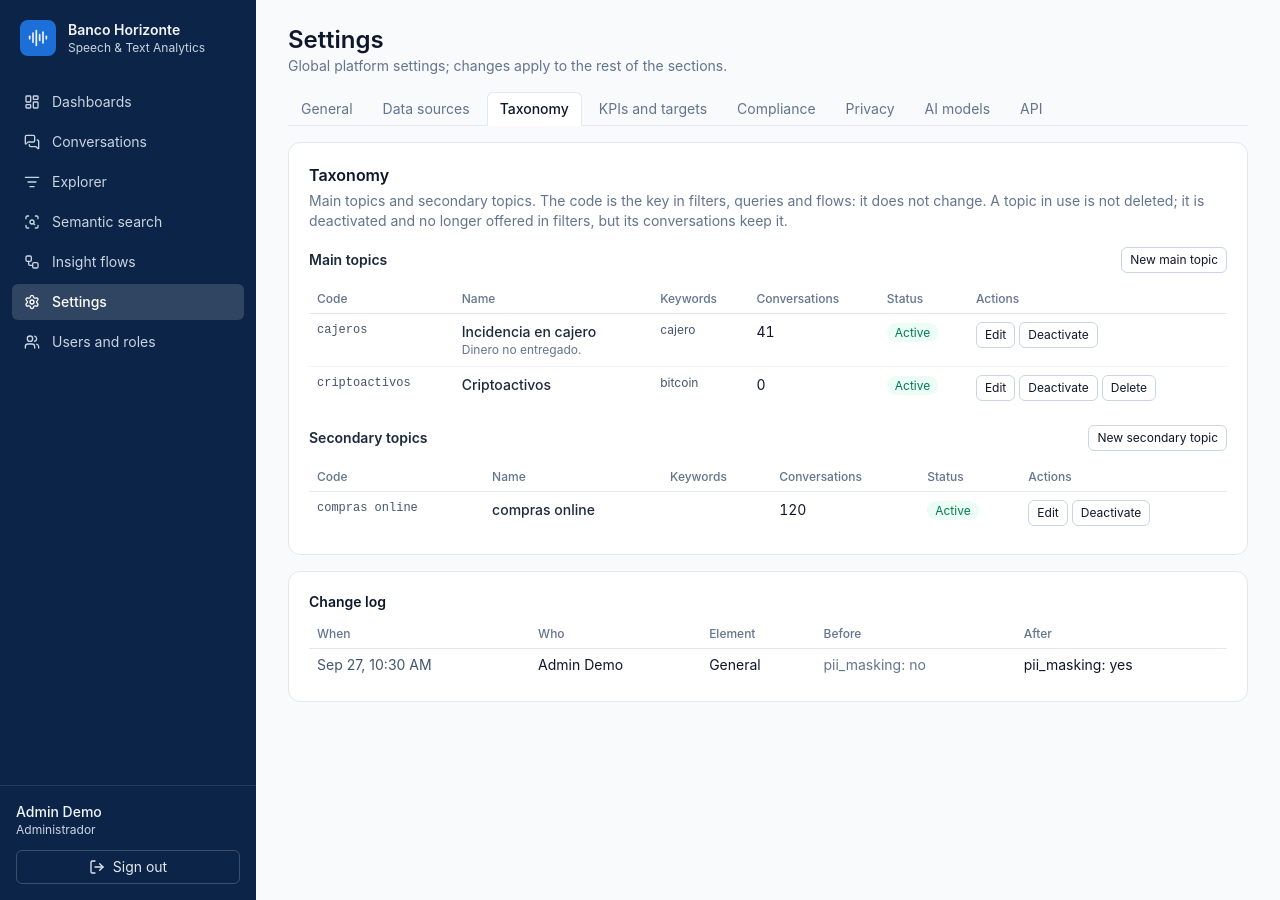
it: Configuración con la interfaz en inglés (FE016, T7) › Taxonomía y Cumplimiento: textos en inglés; los nombres de temas y checks son datos
Check: the column headings read "Code", "Name", "Keywords", "Conversations", "Status", "Actions", in this order, box [309,285,454,314]; [454,285,652,314]; [652,285,748,314]; [748,285,879,314]; [879,285,968,314]; [968,285,1227,314]
Check: the text "Incidencia en cajero" is shown, box [462,323,596,340]
What coordinates should you click on to do the following:
click the button "New secondary topic"
I would click on:
 (1158, 438)
Its box is [1088,425,1227,451].
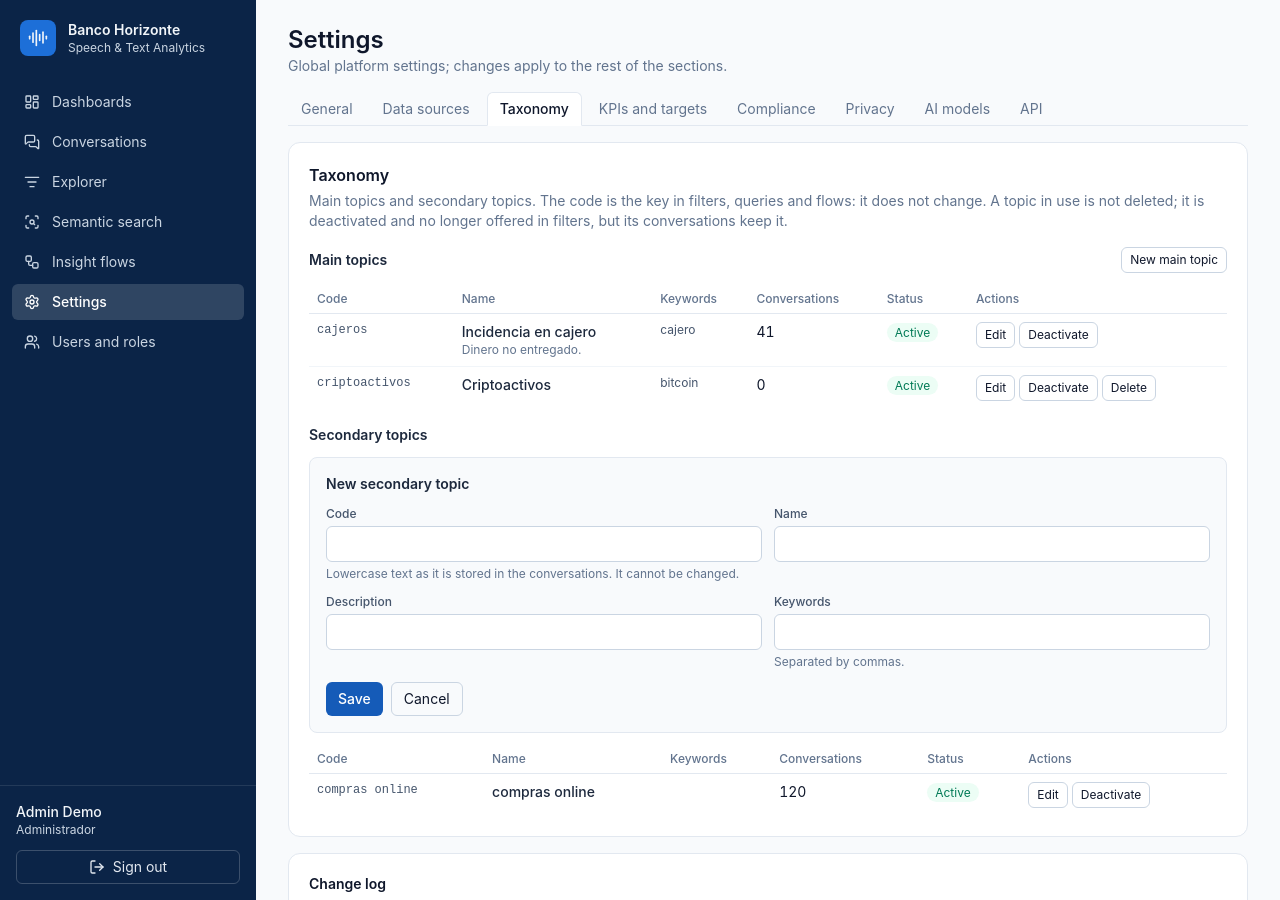
Check: the form "New secondary topic" is shown, box [309,457,1227,733]
